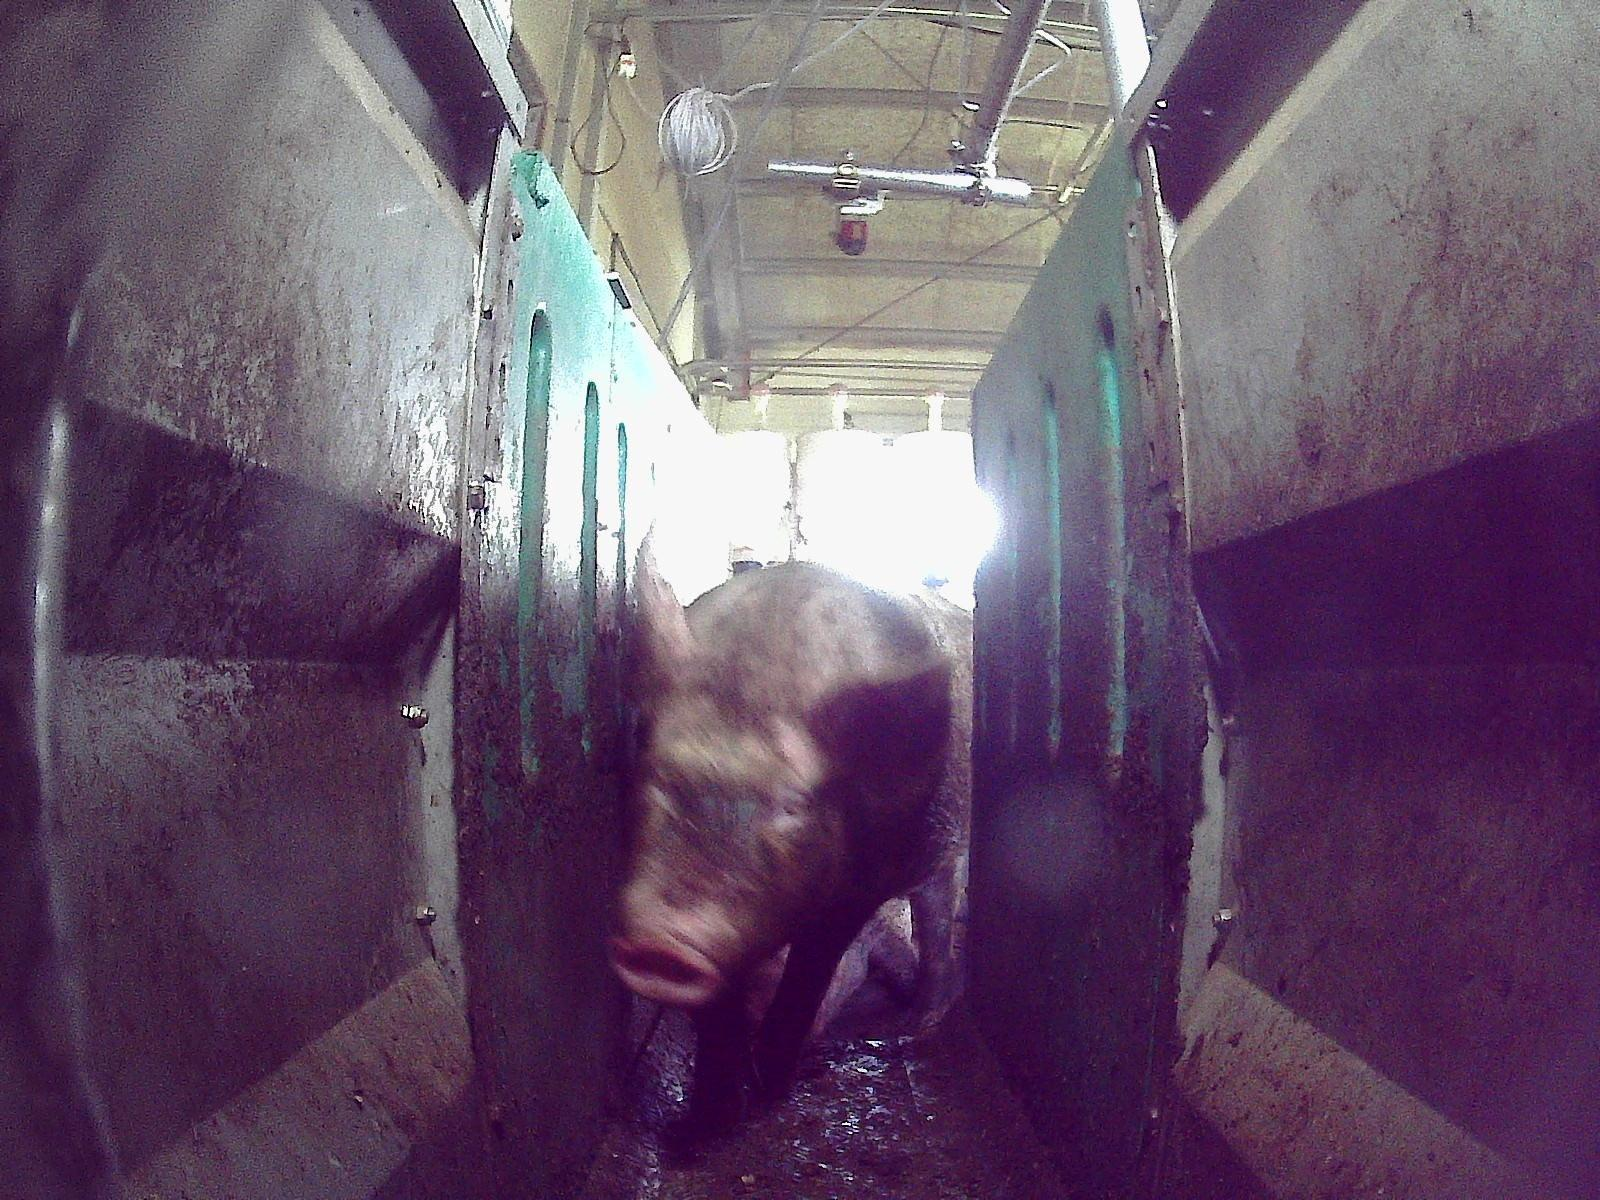Face: (605, 648, 862, 999)
